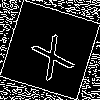X: (25, 25, 76, 81)
